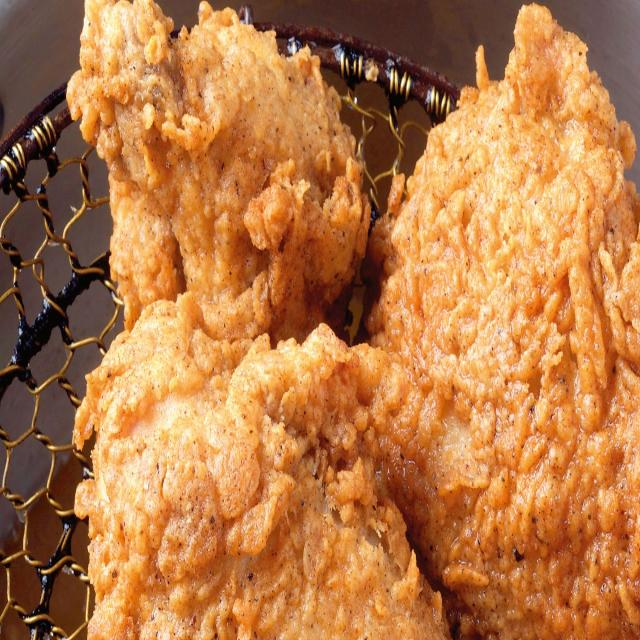Frango: (369, 0, 640, 640), (76, 301, 448, 640), (70, 0, 369, 322)
